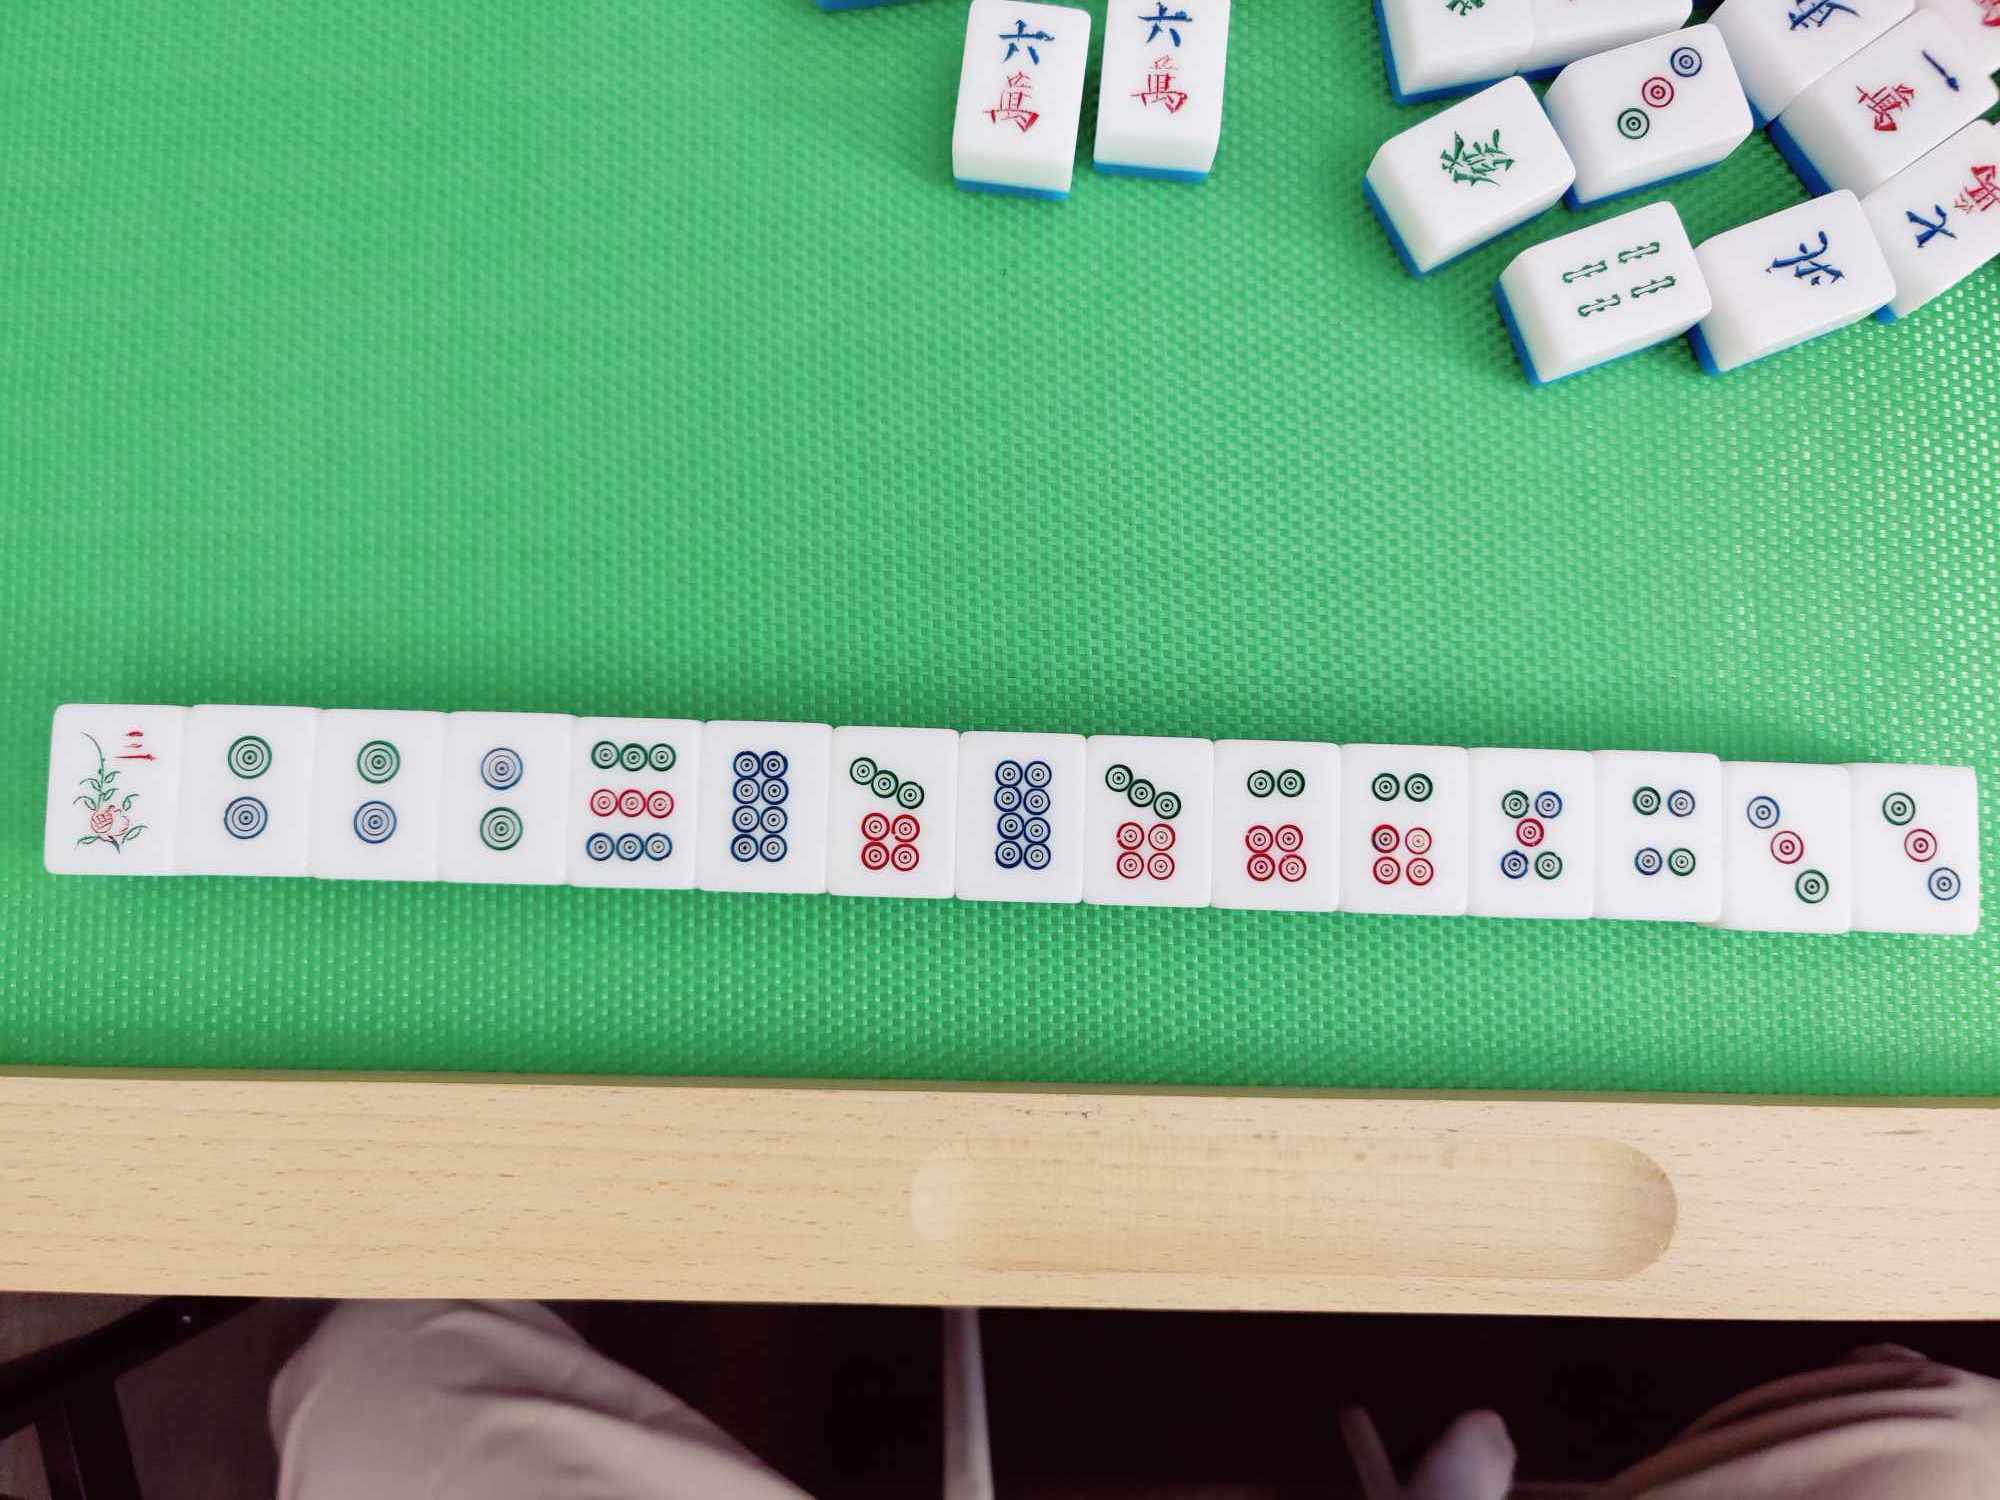circle-eight: (965, 737, 1080, 897), (710, 726, 816, 887)
circle-five: (1469, 755, 1591, 914)
circle-four: (1594, 756, 1715, 919)
circle-nine: (573, 723, 690, 882)
circle-seven: (1091, 747, 1211, 900), (838, 731, 950, 893)
circle-six: (1345, 755, 1463, 911), (1217, 745, 1332, 904)
circle-three: (1854, 772, 1973, 933), (1728, 770, 1846, 930)
circle-two: (321, 722, 431, 871), (449, 723, 551, 878), (194, 714, 293, 865)
flower-red_three: (54, 711, 186, 871)
